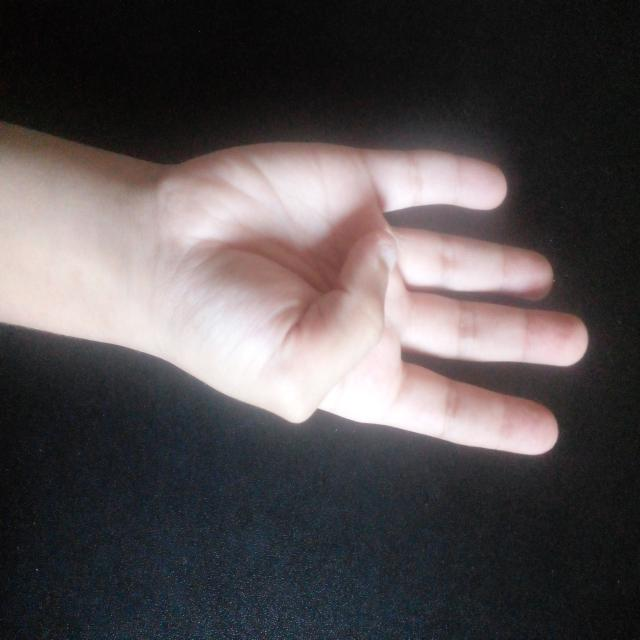Open Hand: (139, 102, 593, 523)
